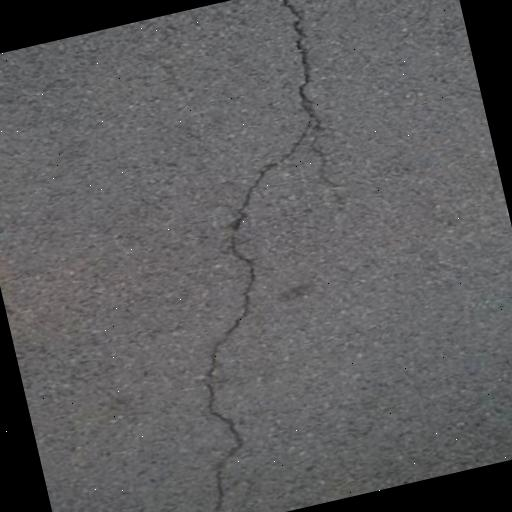spalling: (192, 0, 334, 512)
